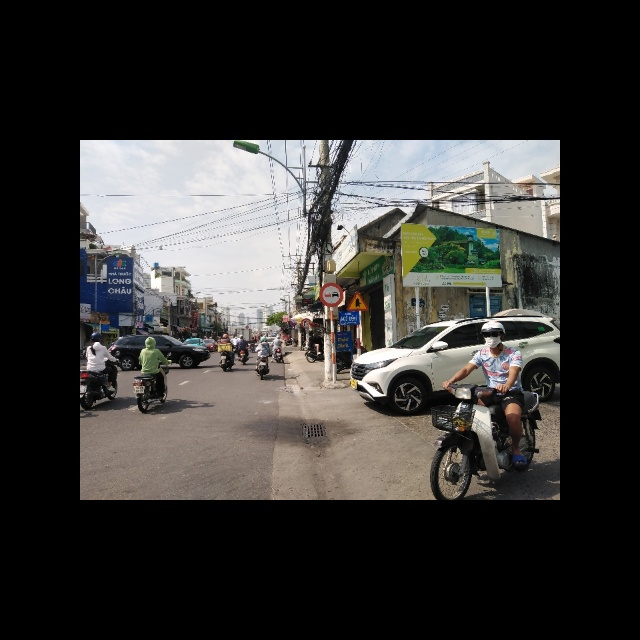Cấm vượt: (319, 282, 344, 307)
Giao nhau với đường không ưu tiên: (347, 290, 370, 312)
